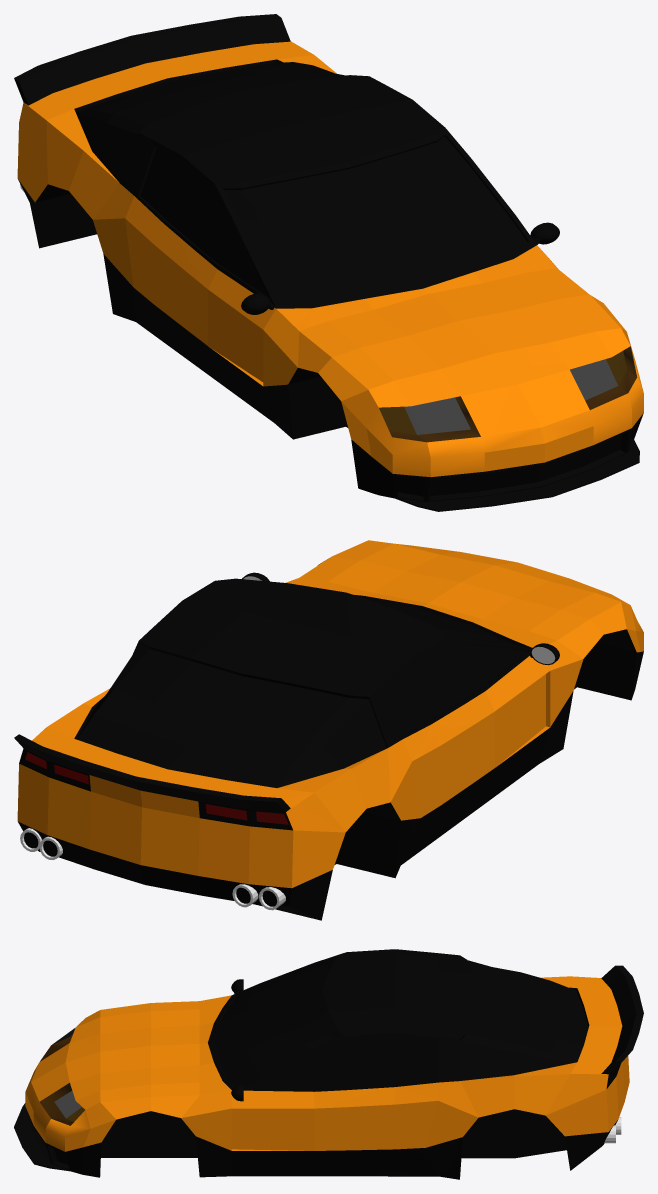
Rendered from car2.glb.
3 renders of one model, top to bottom at view 1: azimuth 30°, elevation 25°; view 2: azimuth 150°, elevation 25°; view 3: azimuth 270°, elevation 25°, orthographic. The views are drawn at different scales.
Visible parts, largest first — view 1: Muscle car 2.Body; view 2: Muscle car 2.Body; view 3: Muscle car 2.Body.
Part boxes in pixels (<box>): Muscle car 2.Body: <box>14,14,643,511</box>; Muscle car 2.Body: <box>14,540,643,920</box>; Muscle car 2.Body: <box>14,949,643,1179</box>.
Bounding box in the file's own units: 135 × 77.11 × 313.
